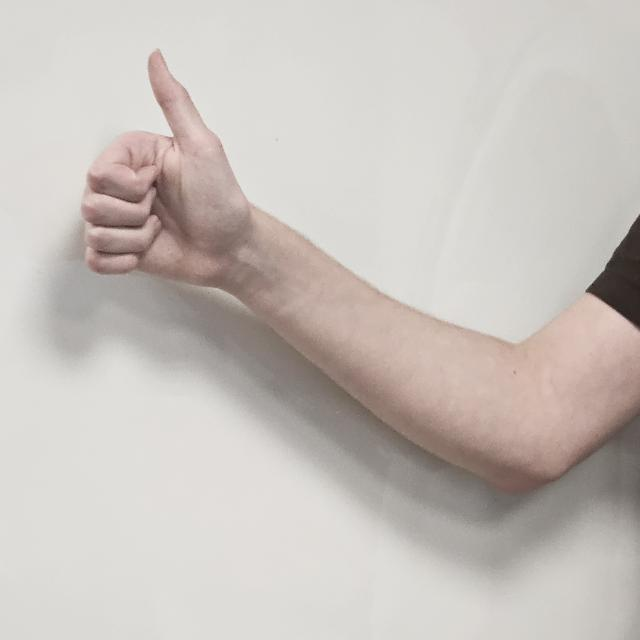Start: (81, 46, 239, 340)
